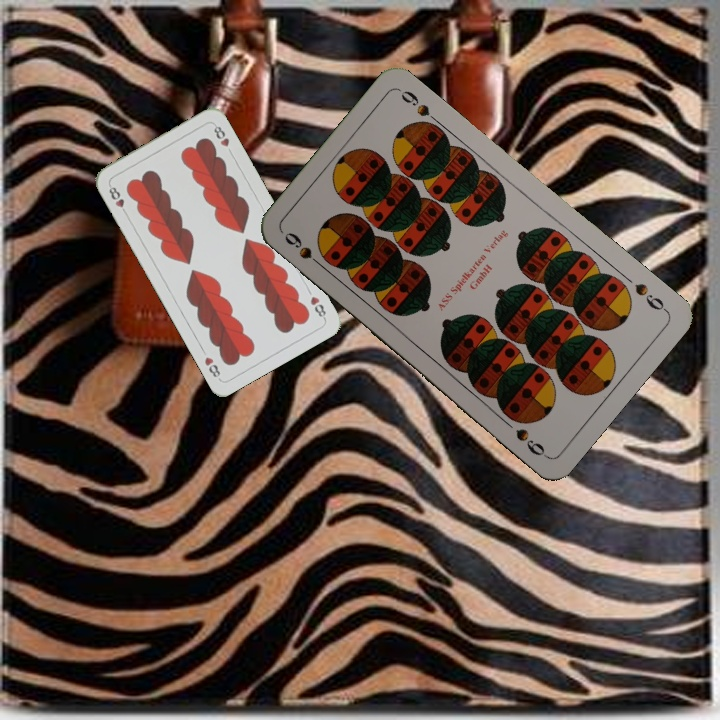H8: (105, 181, 130, 218), (306, 292, 329, 322)
S9: (280, 228, 329, 273), (631, 278, 670, 315)
